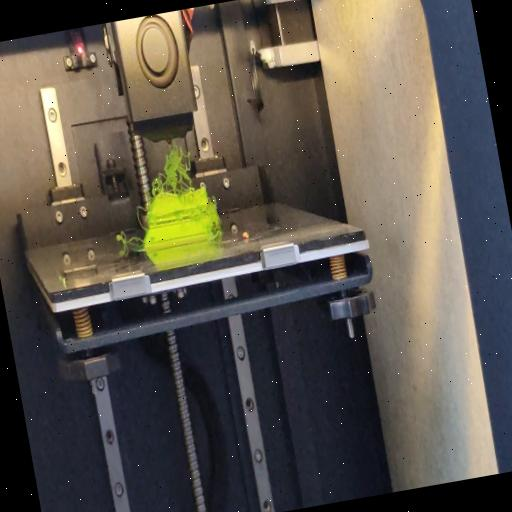spaghetti: (140, 137, 198, 201), (114, 224, 144, 254), (134, 202, 151, 234), (212, 224, 224, 238)
